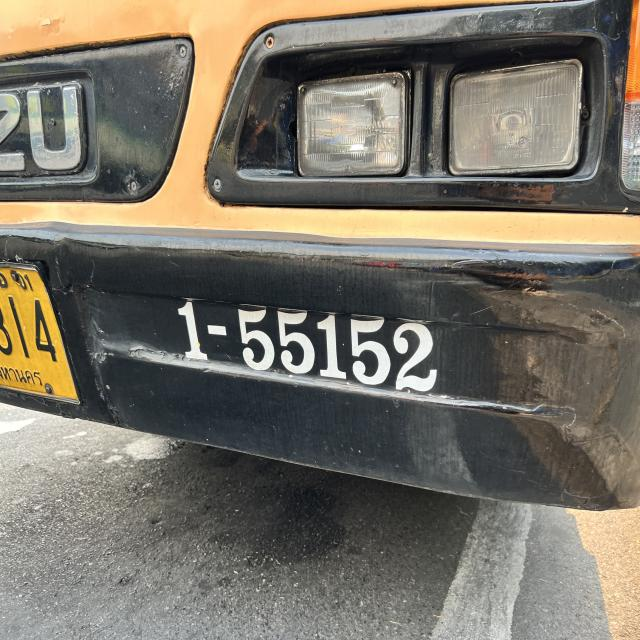BMTA-bus: (0, 0, 640, 513)
